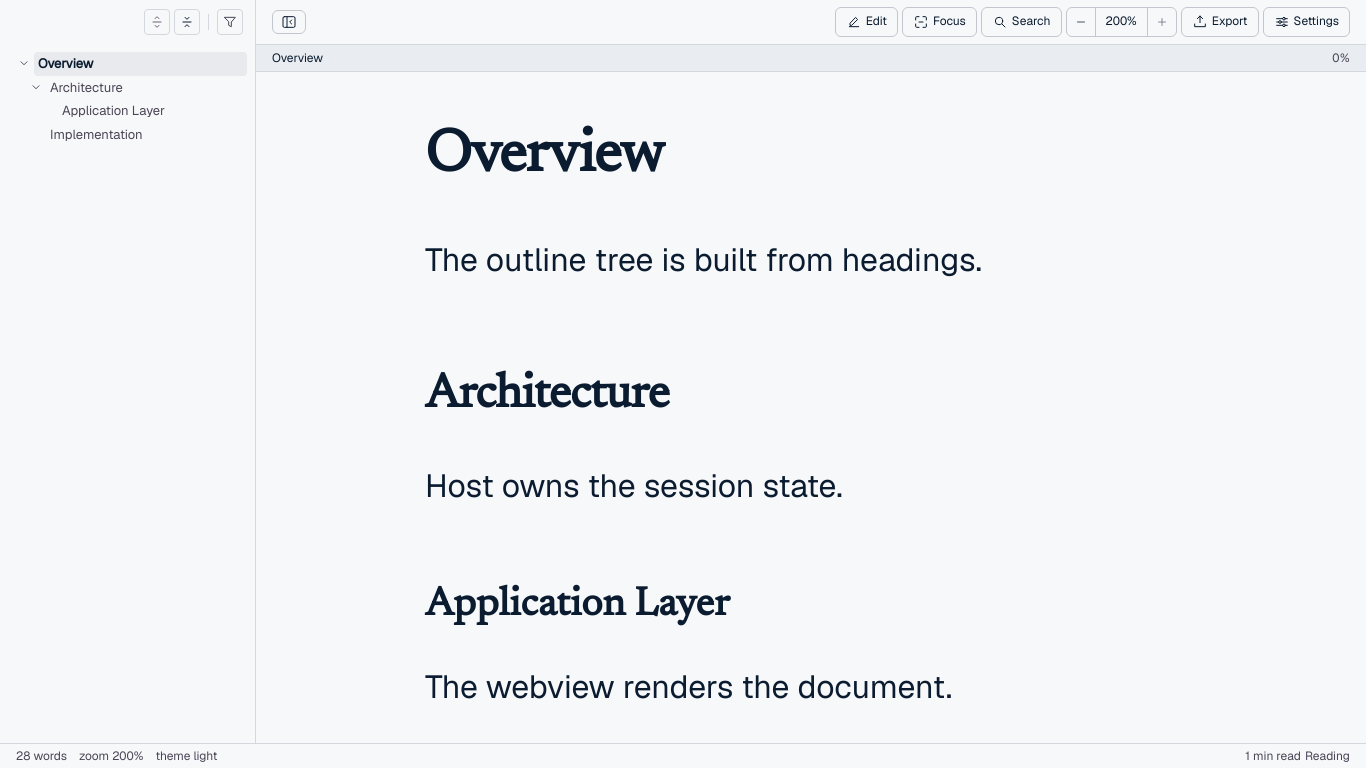
Test: 顶栏 / 弹层 / 状态条装配（M6） › 缩放连点 20 次也停在 200%，端点上 + 停用（不外弹、不越 32px）
The width and height of the screenshot is (1366, 768).
Check: the button named "Reset zoom" reads "200%", box x1=1094 y1=8 x2=1147 y2=36
Check: the button named "Zoom in" is disabled, box x1=1147 y1=8 x2=1176 y2=36
Click the button named "Zoom out". click: (1080, 22)
box: x1=1066 y1=8 x2=1094 y2=36
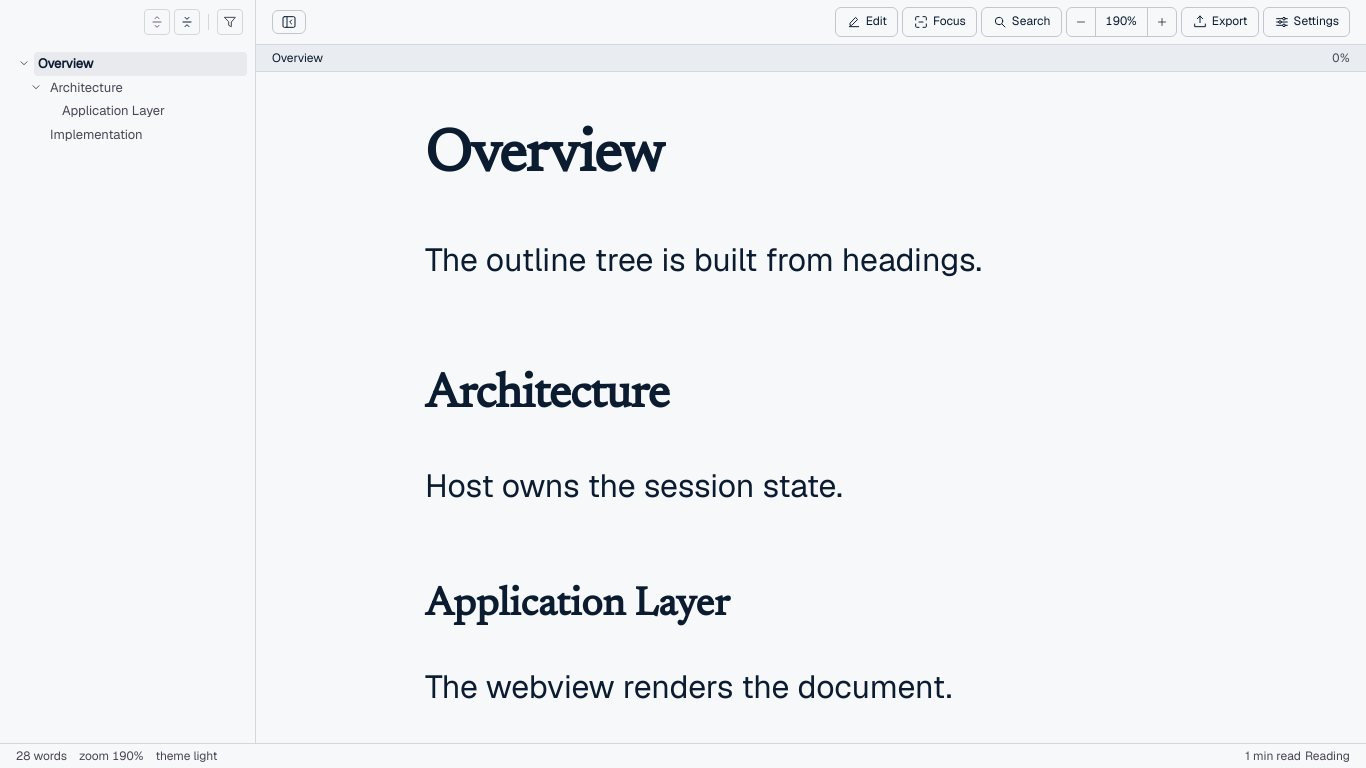
Check: the button named "Zoom in" is enabled, box x1=1147 y1=8 x2=1176 y2=36
Check: the button named "Reset zoom" reads "190%", box x1=1094 y1=8 x2=1147 y2=36
